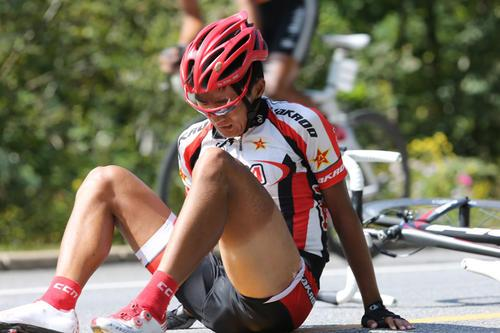FallenBody: (54, 33, 399, 323)
